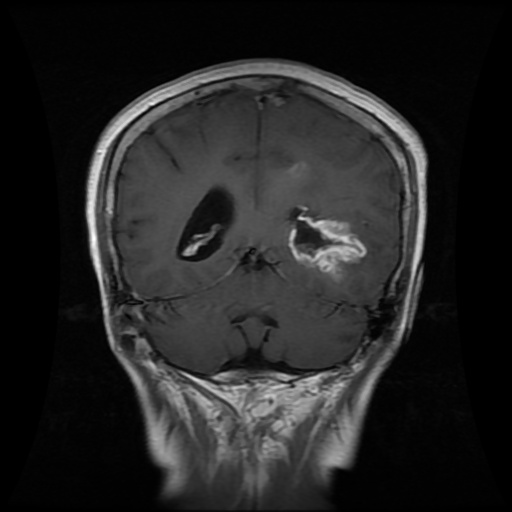glioma: (289, 206, 367, 280)
